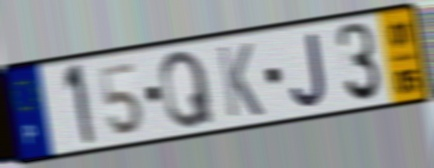1: (62, 60, 98, 151)
3: (334, 20, 384, 105)
5: (96, 60, 145, 138)
J: (288, 29, 329, 110)
K: (215, 40, 266, 121)
Q: (158, 47, 217, 132)
